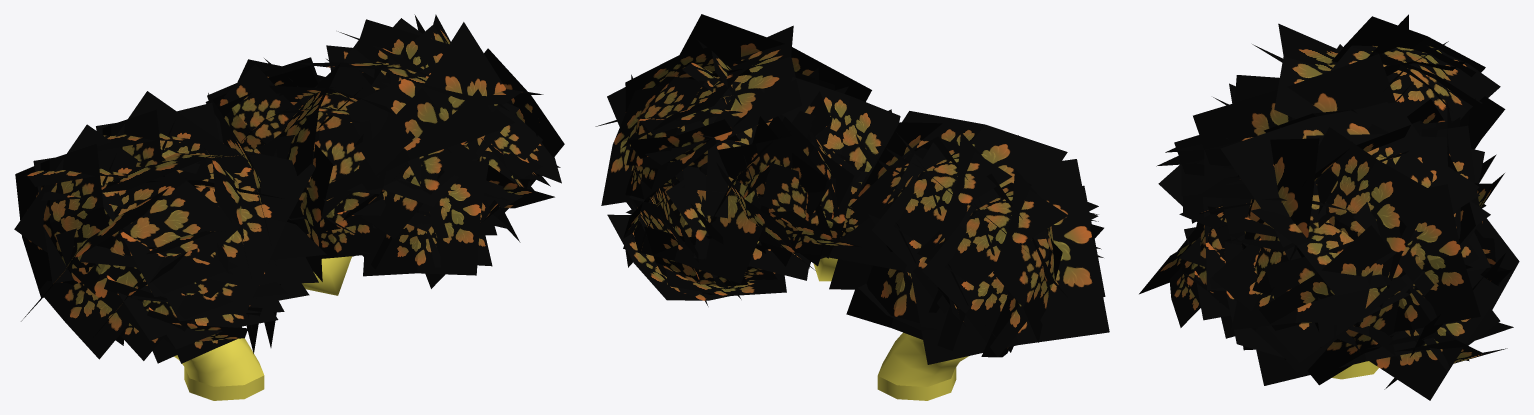
The model's file is 8_1_Cafe,Rojo.fbx.
The picture shows the model from 3 angles, left to right: view 1: azimuth 30°, elevation 25°; view 2: azimuth 150°, elevation 25°; view 3: azimuth 270°, elevation 25°; orthographic projection. The views are drawn at different scales.
Visible parts, largest first — view 1: 1_Arbol_Degradado.008; view 2: 1_Arbol_Degradado.008; view 3: 1_Arbol_Degradado.008.
Part boxes in pixels (left/top/right/bottom): 1_Arbol_Degradado.008: left=14, top=14, right=564, bottom=400; 1_Arbol_Degradado.008: left=595, top=14, right=1109, bottom=400; 1_Arbol_Degradado.008: left=1139, top=14, right=1519, bottom=400.
Size of the model in its own units: 997 by 575 by 576.
